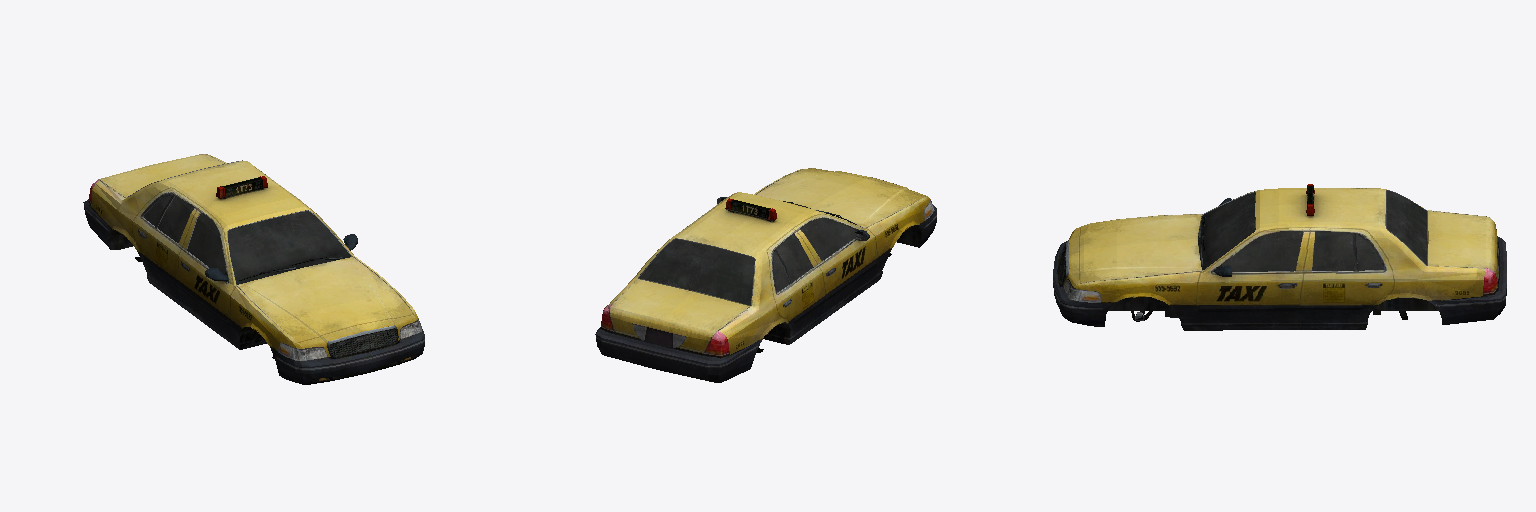
The picture shows the model from 3 angles: view 1: azimuth 30°, elevation 25°; view 2: azimuth 150°, elevation 25°; view 3: azimuth 270°, elevation 25°; orthographic projection.
Visible parts, largest first — view 1: Object_car_glass.jpg; view 2: Object_car_glass.jpg; view 3: Object_car_glass.jpg.
Boxes of the visible parts, <box> form: Object_car_glass.jpg: <box>83,154,424,384</box>; Object_car_glass.jpg: <box>595,168,936,382</box>; Object_car_glass.jpg: <box>1053,184,1506,330</box>.
Bounding box in the file's own units: 3.83 × 3.02 × 10.
3 materials, 2 textured.